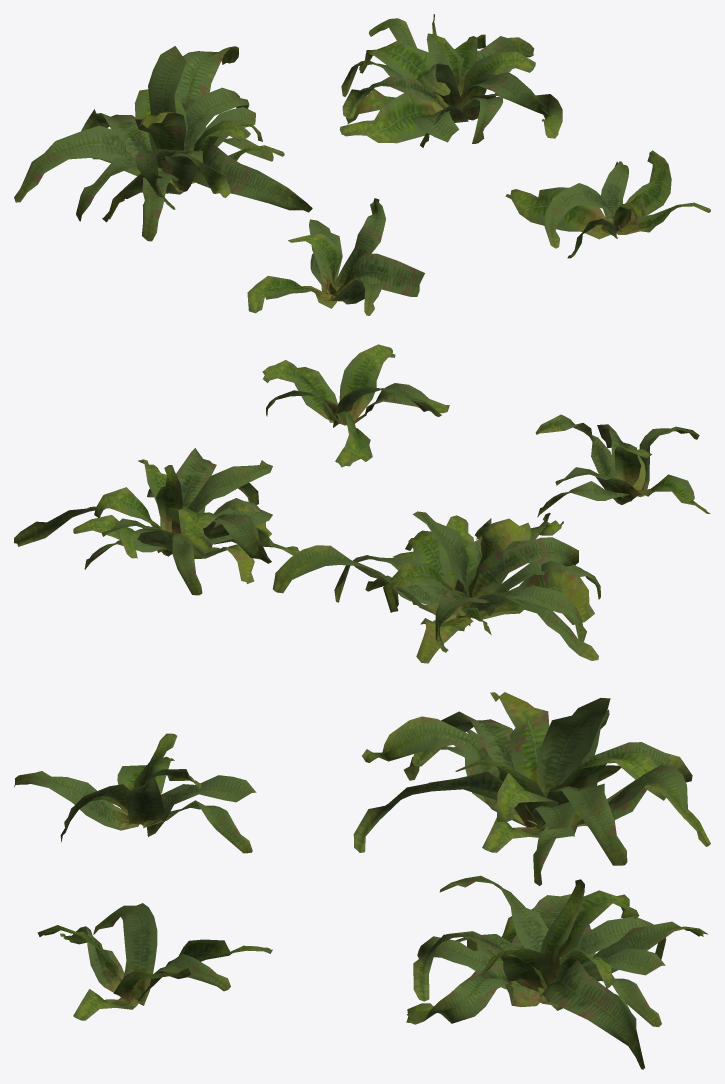
The model's file is fern.glb.
The picture shows the model from 3 angles, top to bottom: view 1: azimuth 30°, elevation 25°; view 2: azimuth 150°, elevation 25°; view 3: azimuth 270°, elevation 25°; orthographic projection. The views are drawn at different scales.
Parts seen in each view (by area): view 1: fern_02_b, fern_02_c, fern_02_d, fern_02_a; view 2: fern_02_b, fern_02_c, fern_02_d, fern_02_a; view 3: fern_02_b, fern_02_c, fern_02_a, fern_02_d.
Boxes of the visible parts, box(x1,y1,x2,y2) form: fern_02_b: box(14, 46, 312, 241); fern_02_c: box(339, 14, 562, 147); fern_02_d: box(505, 150, 710, 258); fern_02_a: box(247, 198, 424, 315); fern_02_b: box(273, 511, 600, 663); fern_02_c: box(14, 448, 299, 595); fern_02_d: box(262, 344, 449, 467); fern_02_a: box(535, 414, 710, 517); fern_02_b: box(353, 692, 710, 885); fern_02_c: box(406, 875, 708, 1069); fern_02_a: box(14, 733, 256, 853); fern_02_d: box(37, 903, 272, 1020).
Bounding box in the file's own units: 1.95 × 0.4109 × 1.7.
Materials: 1 (1 with a texture image).
